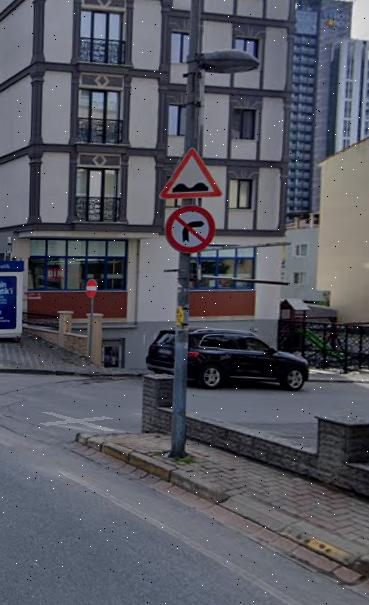rightturnsareforbidden: (163, 206, 218, 254)
